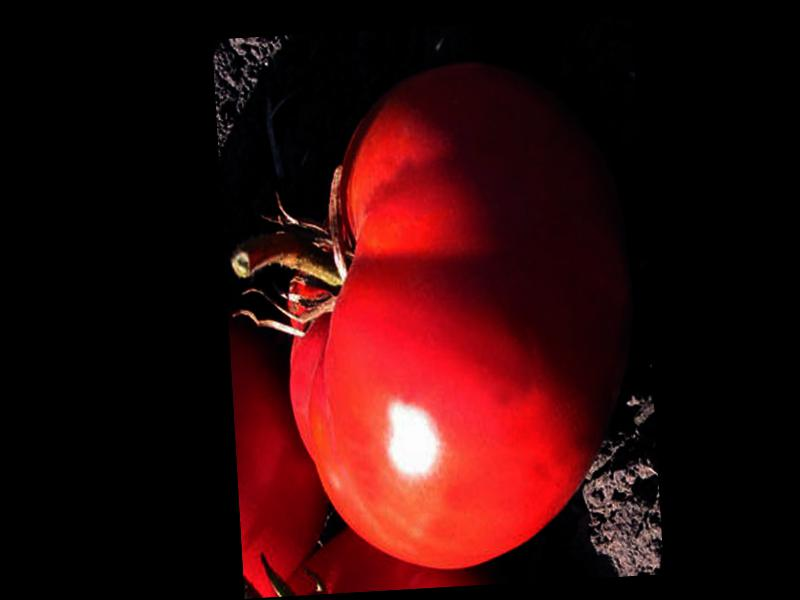Tomato: (273, 53, 647, 577)
